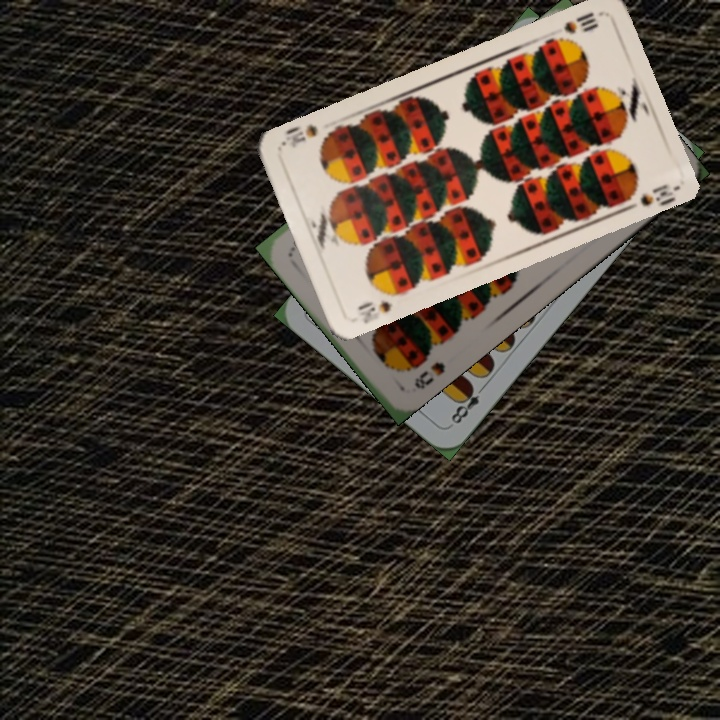E8: (447, 380, 489, 427)
S10: (354, 288, 404, 326), (560, 7, 601, 37)
S8: (410, 357, 448, 392)
